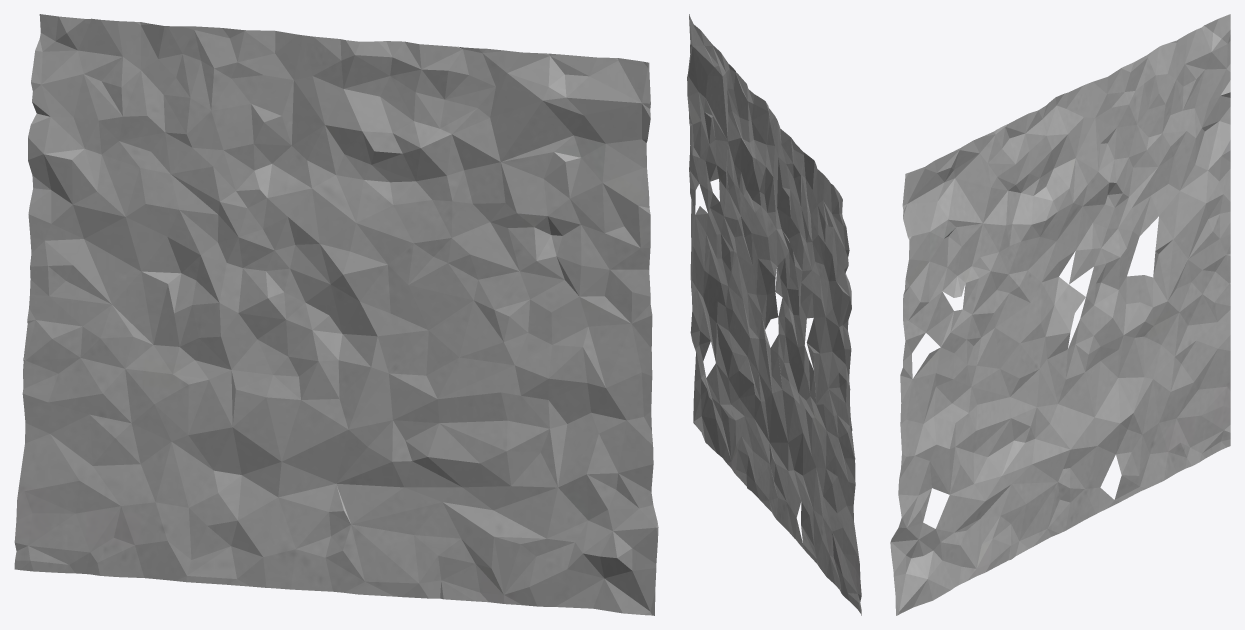
3 views of the same model, side by side, from view 1: azimuth 30°, elevation 25°; view 2: azimuth 150°, elevation 25°; view 3: azimuth 270°, elevation 25° (orthographic). The views are drawn at different scales.
Bounding box in the file's own units: 0.6902 × 0.8374 × 0.5842.
3 materials, 3 textured.
